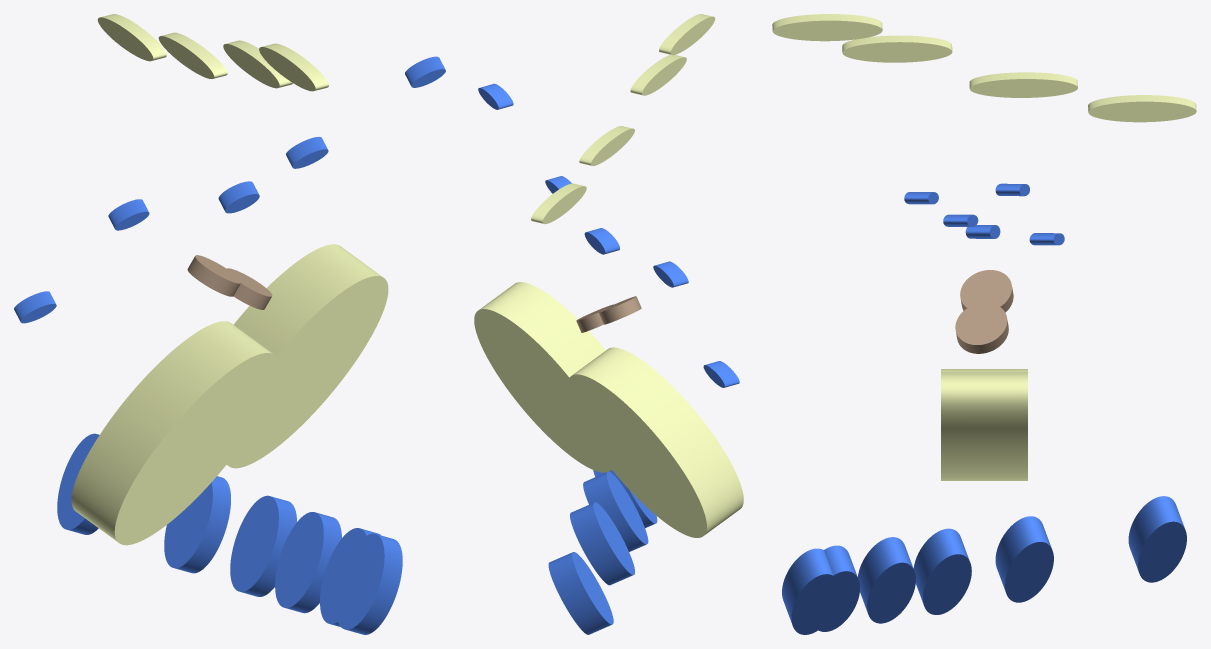
The model's file is gesturetouch.glb.
3 views of the same model, side by side, from view 1: azimuth 30°, elevation 25°; view 2: azimuth 150°, elevation 25°; view 3: azimuth 270°, elevation 25° (orthographic). The views are drawn at different scales.
Visible parts, largest first — view 1: Default.1, Default-material4, Default-material2, Default-material3, Default-material1, Default.2, Default-material0, Default.3-material2, Default.3-material1, Default.3-material0, Default.3-material3, Default.4-material2 (+4 smaller); view 2: Default.1, Default-material0, Default-material1, Default-material2, Default.3-material2, Default.3-material3, Default.3-material1, Default.3-material0, Default.2, Default.4-material2, Default.4-material3, Default.4-material0 (+2 smaller); view 3: Default.1, Default-material4, Default.2, Default-material0, Default-material1, Default-material2, Default-material3, Default.3-material3, Default.3-material2, Default.3-material1, Default.3-material0.
Boxes of the visible parts, x1,y1,x2,y2 form: Default.1: (71, 244, 388, 545); Default-material4: (320, 528, 402, 634); Default-material2: (230, 495, 296, 596); Default-material3: (275, 512, 341, 613); Default-material1: (164, 476, 230, 573); Default.2: (187, 255, 272, 309); Default-material0: (57, 433, 99, 534); Default.3-material2: (259, 43, 328, 91); Default.3-material1: (97, 14, 166, 61); Default.3-material0: (158, 32, 227, 78); Default.3-material3: (223, 40, 292, 88); Default.4-material2: (218, 181, 259, 213); Default.1: (474, 282, 743, 537); Default-material0: (548, 552, 613, 634); Default-material1: (570, 502, 634, 585); Default-material2: (583, 472, 648, 551); Default.3-material2: (659, 14, 715, 55); Default.3-material3: (630, 55, 686, 95); Default.3-material1: (531, 183, 586, 224); Default.3-material0: (579, 126, 634, 165); Default.2: (576, 296, 641, 332); Default.4-material2: (584, 228, 619, 254); Default.4-material3: (703, 361, 739, 387); Default.4-material0: (478, 83, 513, 109); Default.1: (941, 369, 1027, 480); Default-material4: (782, 545, 859, 634); Default.2: (955, 270, 1013, 353); Default-material0: (1128, 496, 1186, 582); Default-material1: (995, 516, 1053, 602); Default-material2: (913, 528, 971, 614); Default-material3: (858, 537, 915, 623); Default.3-material3: (842, 35, 952, 62); Default.3-material2: (772, 14, 882, 41); Default.3-material1: (1088, 95, 1196, 122); Default.3-material0: (969, 72, 1077, 97).
Bounding box in the file's own units: 8.55 × 13.14 × 8.58.
